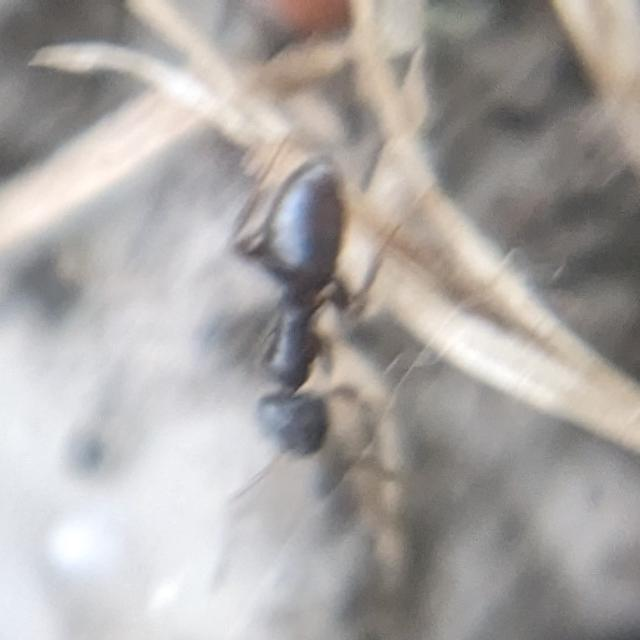Tapinoma: (194, 127, 404, 517)
